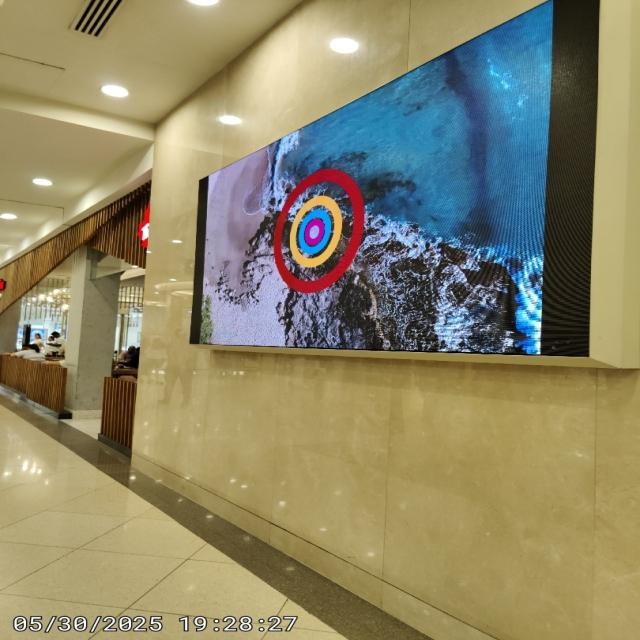digital-board-medium: (190, 0, 599, 355)
